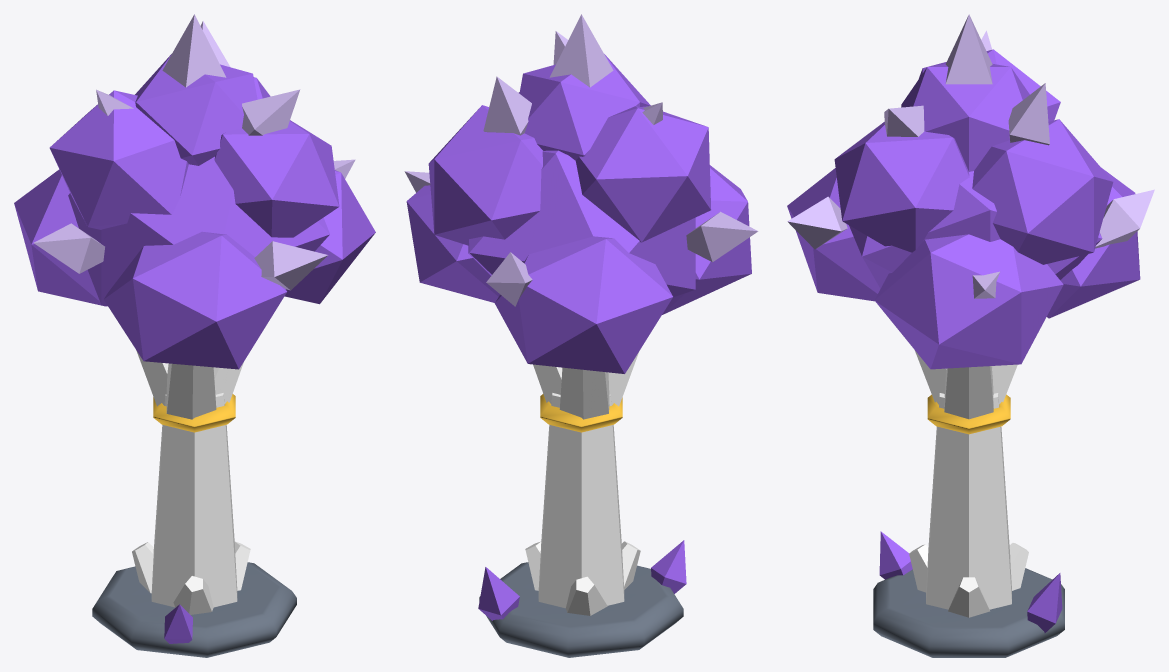
File: Prop_realm_of_legends_CrystalTree.glb
3 views of the same model, side by side, from view 1: azimuth 30°, elevation 25°; view 2: azimuth 150°, elevation 25°; view 3: azimuth 270°, elevation 25° (orthographic).
Visible parts, largest first — view 1: ZoneViolet_A66BFF, Trunk_FFFFFF, StoneDark_6B7686, CrystalLight_D9C2FF, Gold_FFC83D; view 2: ZoneViolet_A66BFF, Trunk_FFFFFF, StoneDark_6B7686, CrystalLight_D9C2FF, Gold_FFC83D; view 3: ZoneViolet_A66BFF, Trunk_FFFFFF, StoneDark_6B7686, CrystalLight_D9C2FF, Gold_FFC83D.
Boxes of the visible parts, <box> form: ZoneViolet_A66BFF: <box>14,54,375,643</box>; Trunk_FFFFFF: <box>132,350,250,614</box>; StoneDark_6B7686: <box>92,562,296,657</box>; CrystalLight_D9C2FF: <box>33,14,355,290</box>; Gold_FFC83D: <box>153,394,235,432</box>; ZoneViolet_A66BFF: <box>406,54,751,620</box>; Trunk_FFFFFF: <box>525,351,640,615</box>; StoneDark_6B7686: <box>479,562,683,657</box>; CrystalLight_D9C2FF: <box>404,14,758,306</box>; Gold_FFC83D: <box>540,394,622,432</box>; ZoneViolet_A66BFF: <box>787,49,1140,632</box>; Trunk_FFFFFF: <box>909,350,1028,617</box>; StoneDark_6B7686: <box>873,568,1064,657</box>; CrystalLight_D9C2FF: <box>787,14,1154,298</box>; Gold_FFC83D: <box>927,394,1010,434</box>.
Size of the model in its own units: 9.84 by 17.02 by 9.23.
